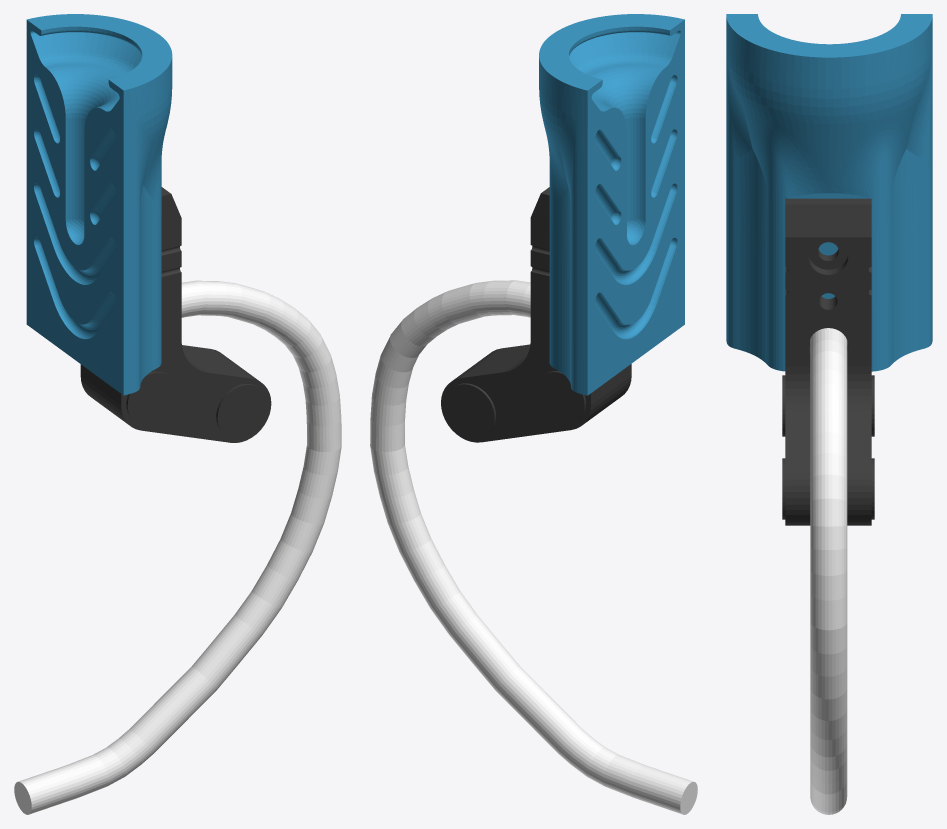
The model's file is inner_finger_pipe_fine.obj.
3 views of the same model, side by side, from view 1: azimuth 30°, elevation 25°; view 2: azimuth 150°, elevation 25°; view 3: azimuth 270°, elevation 25° (orthographic). The views are drawn at different scales.
Parts seen in each view (by area): view 1: finger_tip_fine, Cylinder, inner_finger_fine; view 2: finger_tip_fine, Cylinder, inner_finger_fine; view 3: finger_tip_fine, inner_finger_fine, Cylinder.
Boxes of the visible parts, left/top/right/bottom form: finger_tip_fine: left=26, top=14, right=172, bottom=395; Cylinder: left=14, top=280, right=341, bottom=814; inner_finger_fine: left=80, top=187, right=271, bottom=442; finger_tip_fine: left=539, top=14, right=684, bottom=395; Cylinder: left=370, top=280, right=697, bottom=814; inner_finger_fine: left=441, top=187, right=631, bottom=442; finger_tip_fine: left=726, top=14, right=932, bottom=371; inner_finger_fine: left=782, top=198, right=874, bottom=525; Cylinder: left=810, top=328, right=847, bottom=814.
Size of the model in its own units: 0.0633 by 0.142 by 0.0335.
